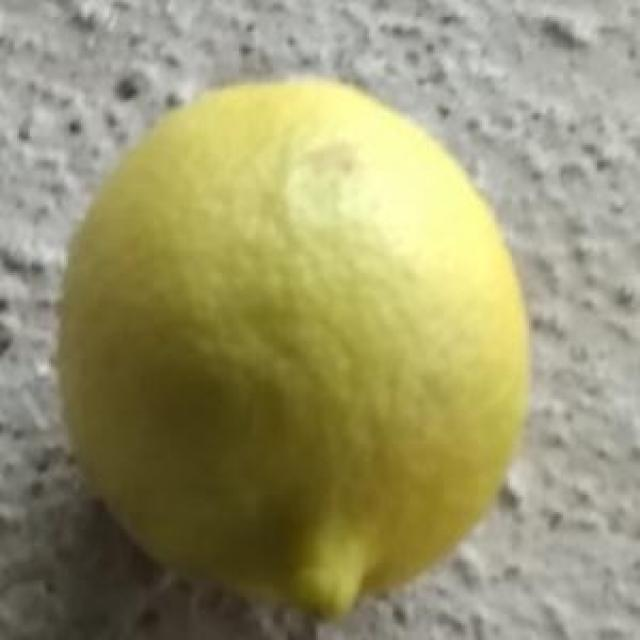lemon: (51, 76, 531, 612)
